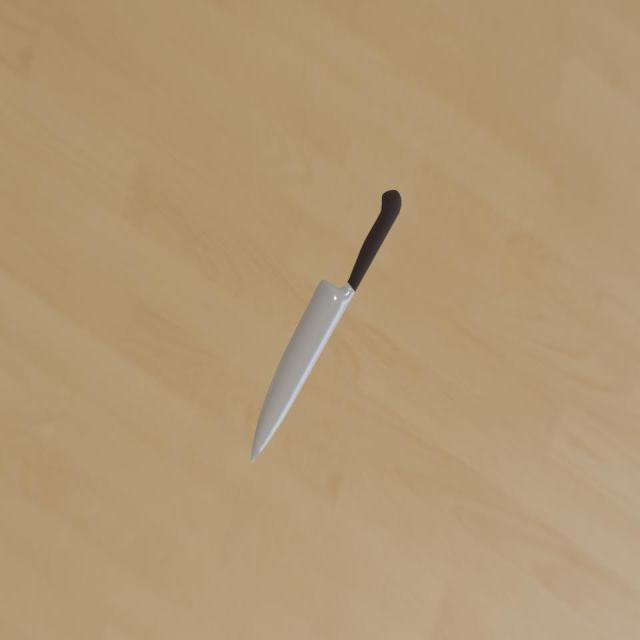knife: (346, 190, 401, 292)
